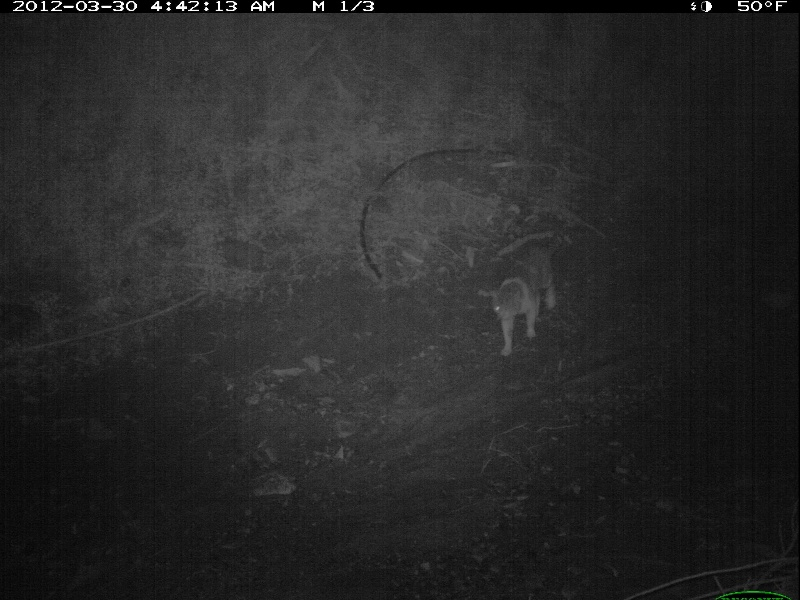cat: (490, 220, 571, 361)
